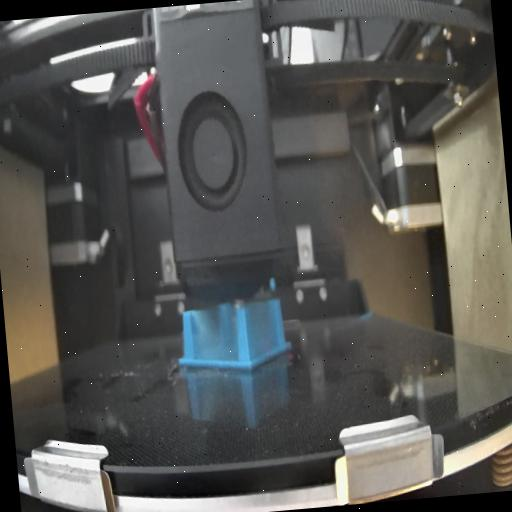stringing: (187, 304, 243, 372), (244, 300, 282, 360)
